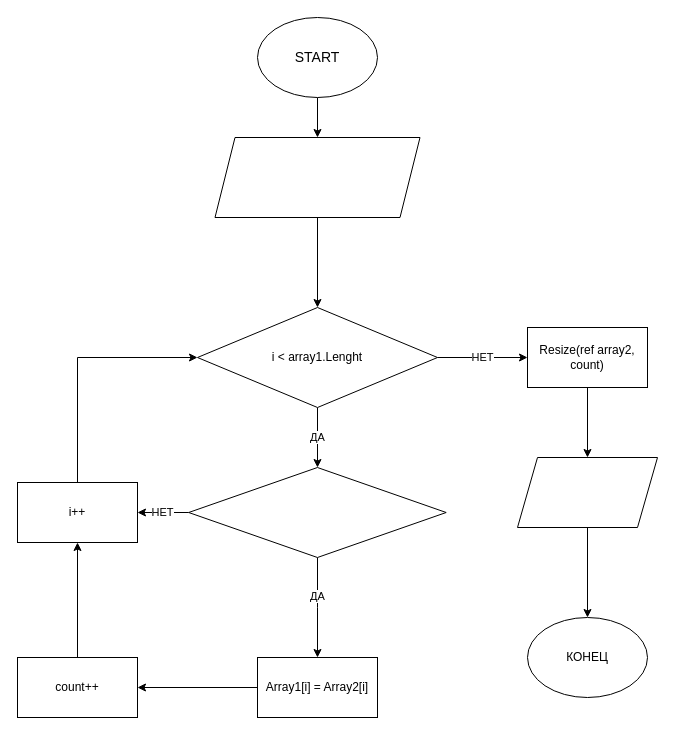
The diagram is 675 pixels wide and 735 high, and some of its shapes have lost their labels. The shapes that lost their labels are listed below. From the top down, each one's centre as x and y in pixels, then its label:
At point 317,177: "string [] array1 string [] array2 int m = 3 count = 0 i = 0".
At point 317,512: "Array1[i].Lenght <= m".
At point 587,492: "array2".
